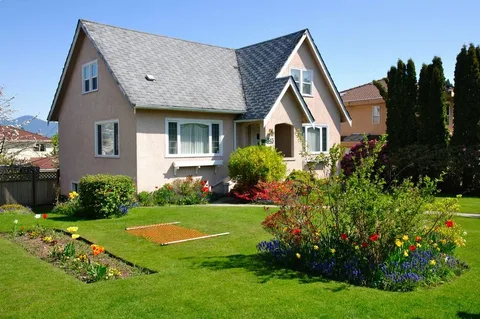private_hause: (50, 12, 349, 194)
